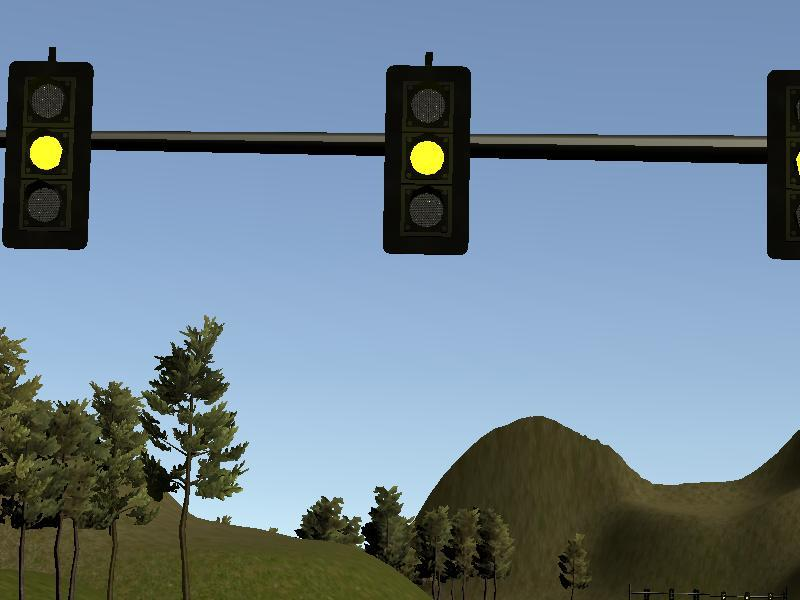Yellow: (2, 60, 94, 251), (383, 65, 472, 255), (767, 69, 800, 260)
